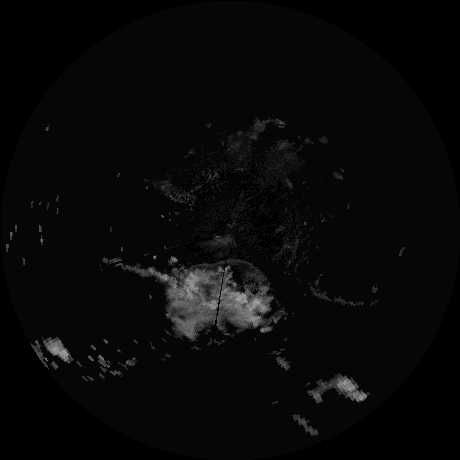frontgust: (188, 259, 266, 282)
